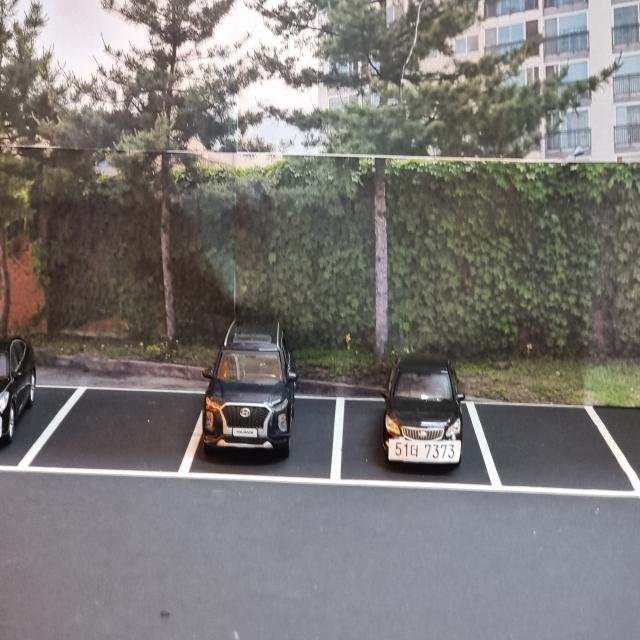empty: (462, 393, 640, 506), (13, 379, 205, 483)
occupied: (203, 321, 296, 457), (374, 353, 459, 470)
